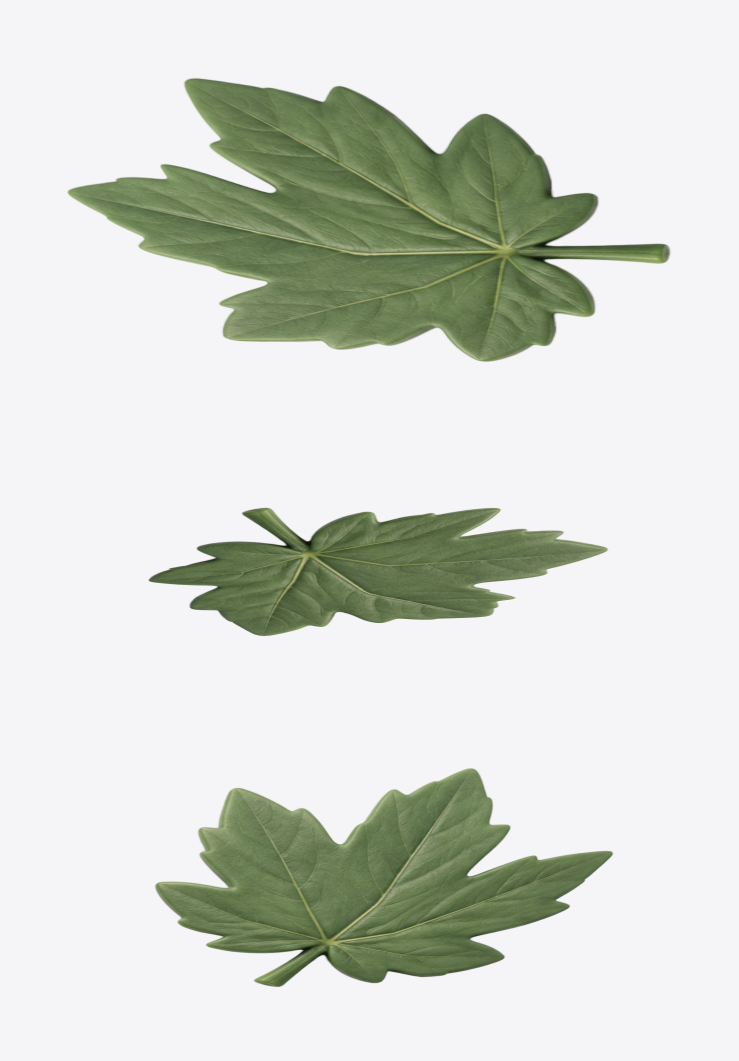
The model's file is hoja04.glb.
The picture shows the model from 3 angles, top to bottom: view 1: azimuth 30°, elevation 25°; view 2: azimuth 150°, elevation 25°; view 3: azimuth 270°, elevation 25°; orthographic projection. The views are drawn at different scales.
Parts seen in each view (by area): view 1: Object_2; view 2: Object_2; view 3: Object_2.
Boxes of the visible parts, box(x1,y1,x2,y2) form: Object_2: box(67, 77, 670, 361); Object_2: box(148, 507, 608, 635); Object_2: box(154, 768, 613, 986).
Size of the model in its own units: 0.4795 by 0.0557 by 0.4787.
Materials: 1 (1 with a texture image).
